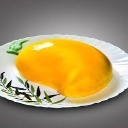mango: (15, 40, 113, 97)
